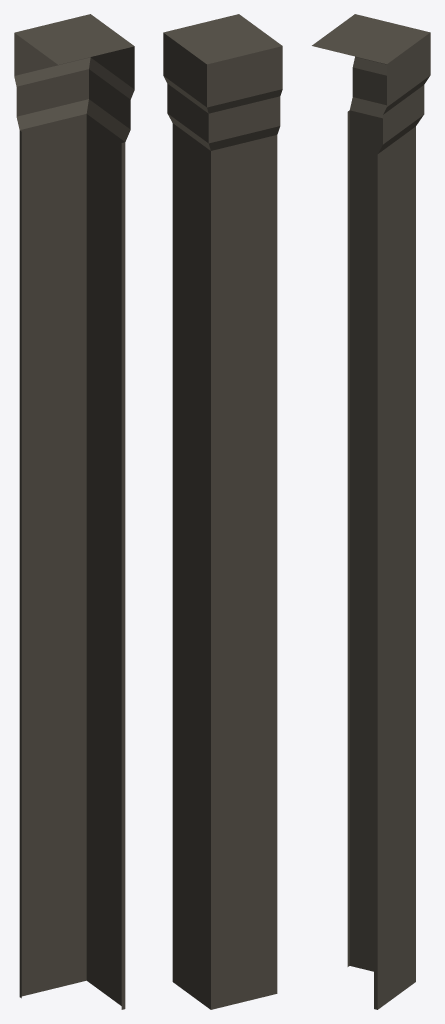
The model's file is CornerPillar1.fbx.
The picture shows the model from 3 angles, left to right: view 1: azimuth 30°, elevation 25°; view 2: azimuth 210°, elevation 25°; view 3: azimuth 330°, elevation 25°; orthographic projection.
Visible parts, largest first — view 1: Corner; view 2: Corner; view 3: Corner.
Boxes of the visible parts, <box> form: Corner: <box>14,14,134,1009</box>; Corner: <box>163,14,282,1009</box>; Corner: <box>312,14,430,1009</box>.
Size of the model in its own units: 25 by 300 by 25.
